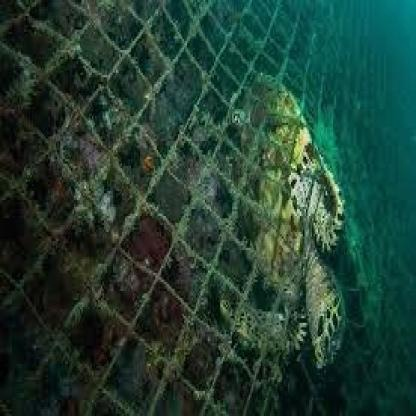net: (2, 2, 408, 416)
